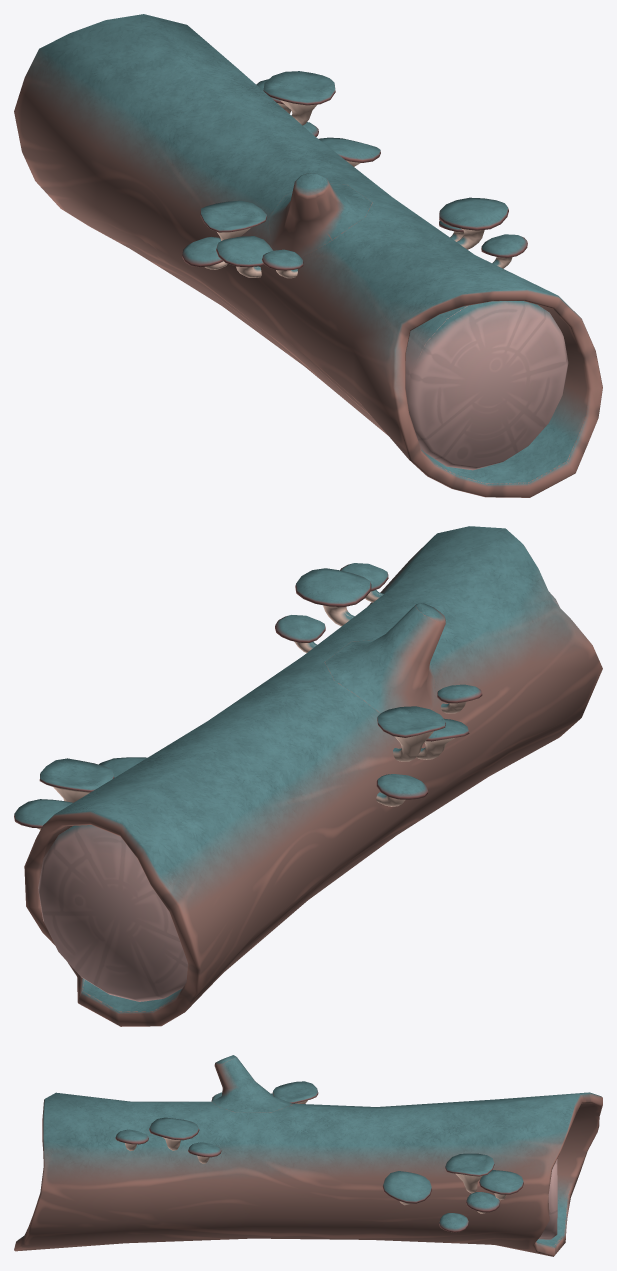
The picture shows the model from 3 angles, top to bottom: view 1: azimuth 30°, elevation 25°; view 2: azimuth 150°, elevation 25°; view 3: azimuth 270°, elevation 25°; orthographic projection. The views are drawn at different scales.
Parts seen in each view (by area): view 1: submesh_0; view 2: submesh_0; view 3: submesh_0.
Boxes of the visible parts, x1,y1,x2,y2 form: submesh_0: (14,14,602,497); submesh_0: (14,526,602,1026); submesh_0: (14,1055,602,1256).
Size of the model in its own units: 1.09 by 0.963 by 3.03.
Materials: 1 (1 with a texture image).
